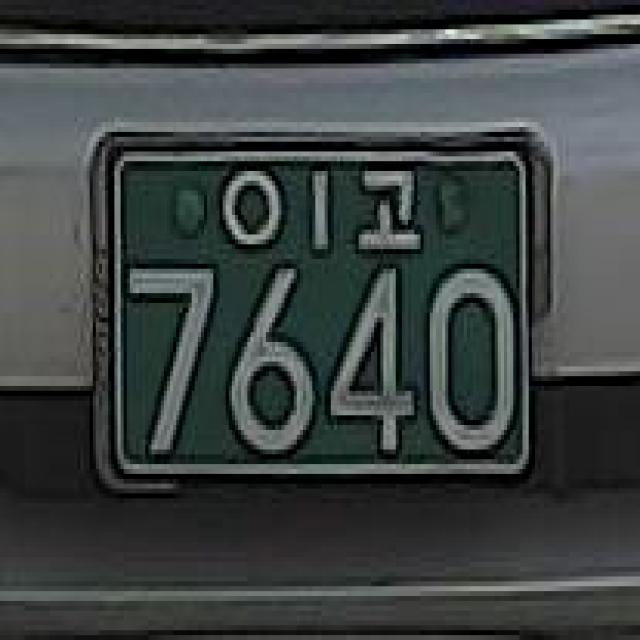illegal_plate: (79, 110, 555, 512)
